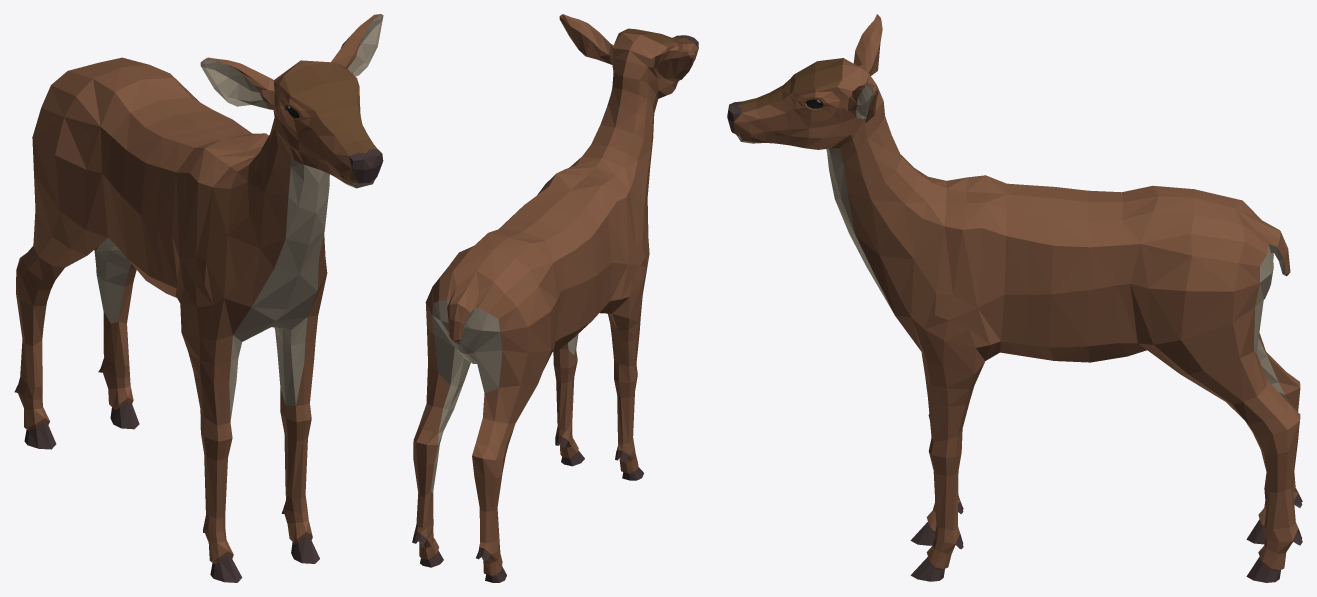
Rendered from deer.glb.
3 views of the same model, side by side, from view 1: azimuth 30°, elevation 25°; view 2: azimuth 150°, elevation 25°; view 3: azimuth 270°, elevation 25° (orthographic). The views are drawn at different scales.
Parts seen in each view (by area): view 1: deer; view 2: deer; view 3: deer.
Boxes of the visible parts, x1,y1,x2,y2 form: deer: [14, 14, 383, 582]; deer: [412, 14, 698, 582]; deer: [727, 14, 1302, 582].
Size of the model in its own units: 0.3316 by 0.975 by 1.
